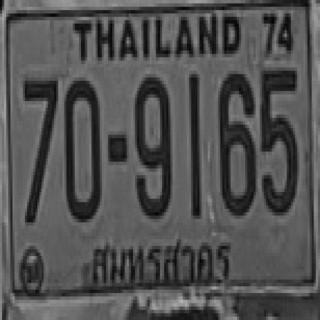N00: (63, 77, 101, 219)
N01: (187, 72, 200, 217)
N05: (260, 67, 297, 212)
N06: (217, 71, 254, 216)
N07: (23, 78, 58, 222), (23, 76, 58, 180)
N09: (133, 74, 170, 216)
P58: (85, 227, 237, 292)
